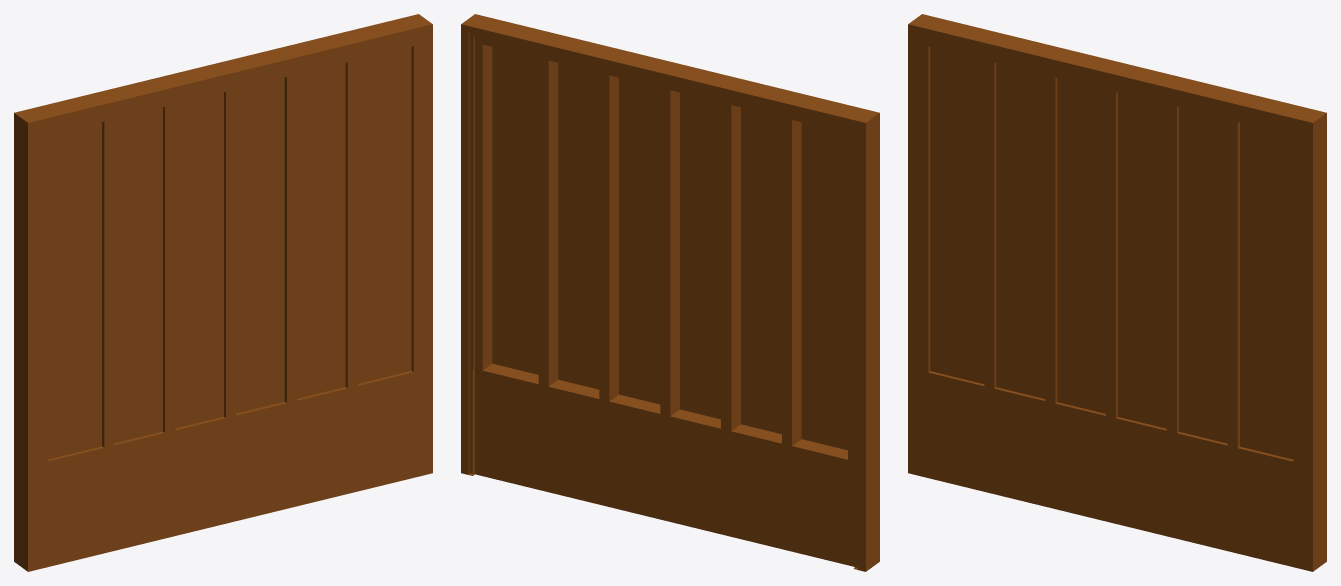
The model's file is ClassRoomWindowFrame.fbx.
The picture shows the model from 3 angles, left to right: view 1: azimuth 30°, elevation 25°; view 2: azimuth 150°, elevation 25°; view 3: azimuth 330°, elevation 25°; orthographic projection.
Parts seen in each view (by area): view 1: Cube.016; view 2: Cube.016; view 3: Cube.016.
Boxes of the visible parts, <box> form: Cube.016: <box>14,14,432,571</box>; Cube.016: <box>461,14,879,571</box>; Cube.016: <box>908,14,1326,571</box>.
Bounding box in the file's own units: 2 × 0.12 × 2.12.
1 material, 1 textured.
